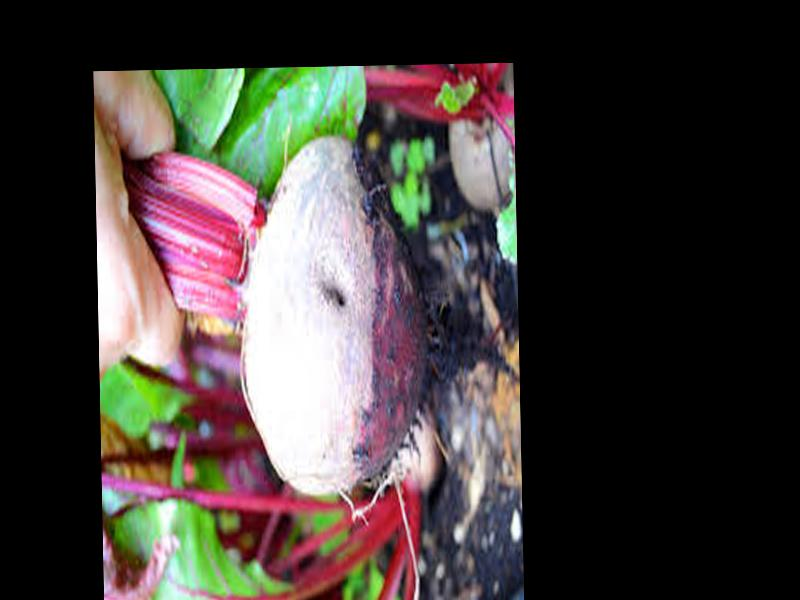Beet: (122, 133, 522, 502)
